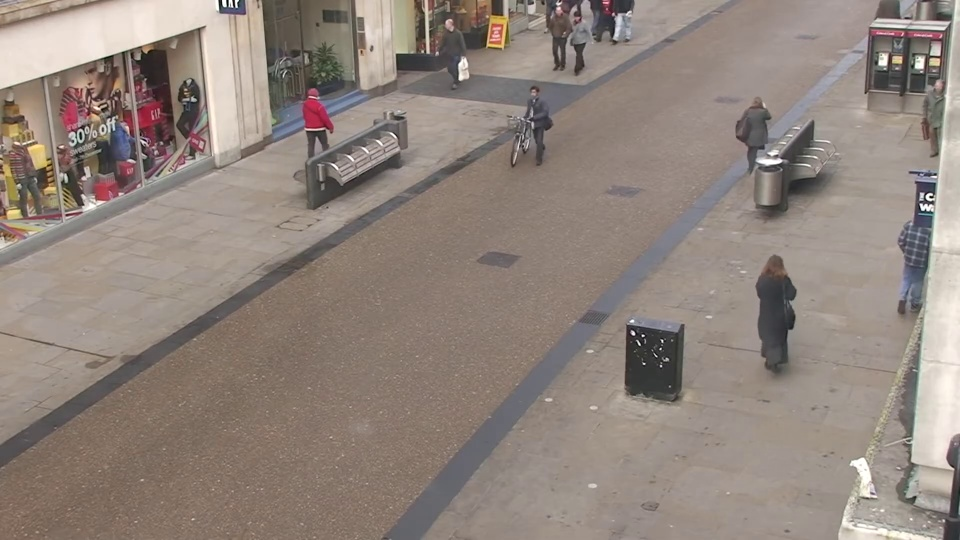pedestrian: (752, 242, 798, 372), (911, 79, 956, 171), (739, 91, 772, 180), (305, 84, 337, 170), (519, 82, 548, 168), (432, 19, 457, 88), (565, 8, 588, 75), (544, 7, 567, 72)
